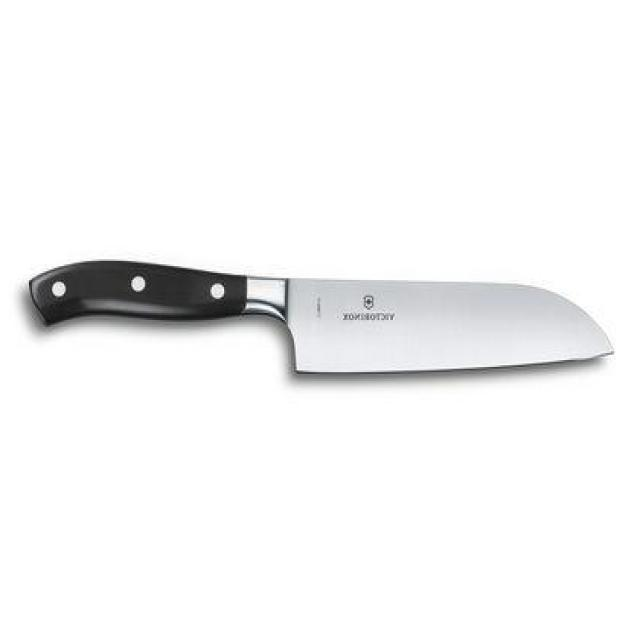knife: (20, 257, 626, 384)
